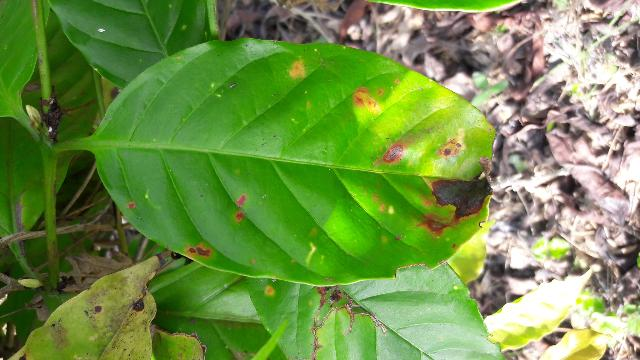red_spider_mite: (90, 42, 491, 283)
